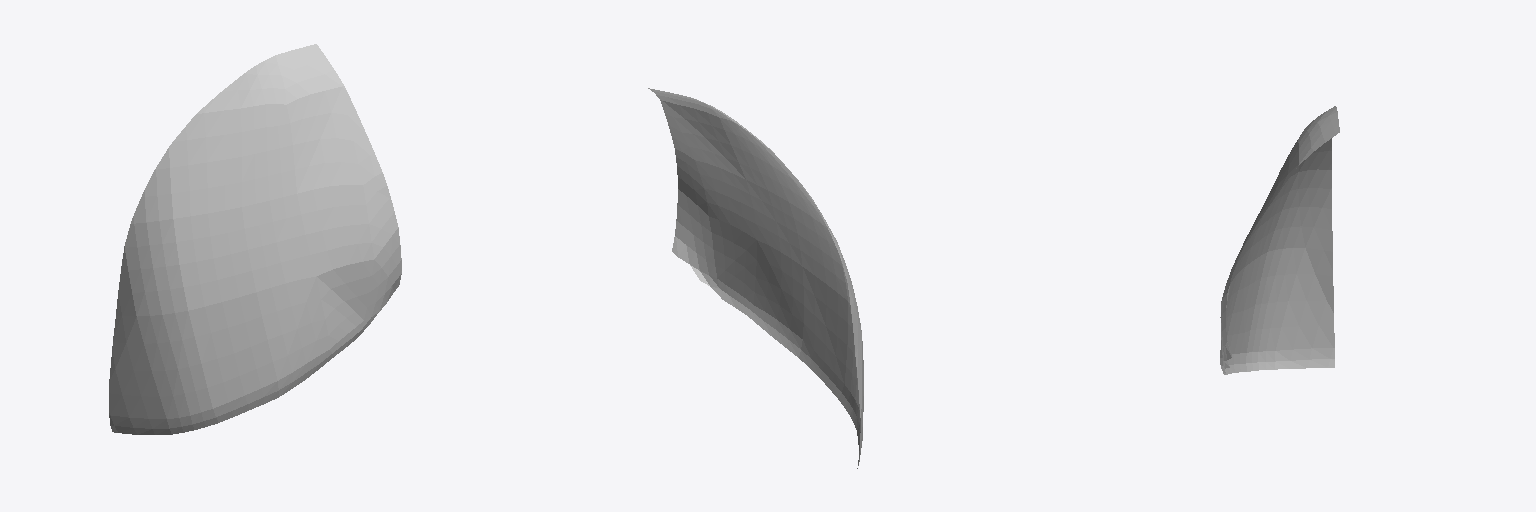
The model's file is baseLiverGen_frontHalf_cut_obs_376points.obj.
3 renders of one model, left to right at view 1: azimuth 30°, elevation 25°; view 2: azimuth 150°, elevation 25°; view 3: azimuth 270°, elevation 25°, orthographic.
Visible parts, largest first — view 1: Plane_Plane.002; view 2: Plane_Plane.002; view 3: Plane_Plane.002.
Boxes of the visible parts, x1=… form: Plane_Plane.002: x1=109, y1=44, x2=401, y2=434; Plane_Plane.002: x1=648, y1=88, x2=863, y2=468; Plane_Plane.002: x1=1220, y1=106, x2=1339, y2=374.
Size of the model in its own units: 0.1092 by 0.1467 by 0.0475.